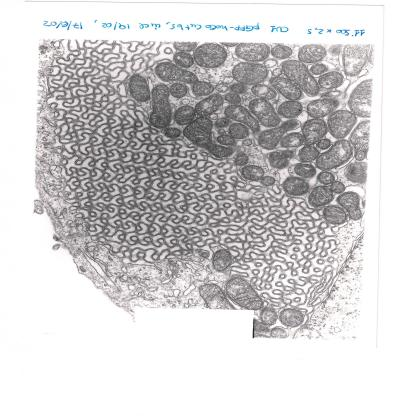mitochondria: (182, 116, 233, 160), (279, 60, 322, 98), (254, 117, 302, 151), (220, 100, 264, 133), (222, 275, 264, 309), (143, 84, 173, 127), (310, 141, 352, 171), (193, 282, 236, 310), (266, 73, 305, 101), (152, 61, 198, 84), (192, 42, 229, 70), (231, 61, 271, 85), (327, 110, 357, 140), (249, 99, 282, 126), (304, 96, 342, 119), (299, 116, 328, 146), (236, 42, 272, 63), (190, 94, 224, 116), (336, 192, 364, 218), (308, 184, 337, 208), (127, 73, 151, 102), (297, 44, 328, 65), (282, 176, 311, 198), (209, 248, 236, 271), (319, 207, 350, 227), (222, 122, 254, 140), (279, 307, 307, 327), (171, 105, 196, 126), (318, 73, 348, 90), (343, 161, 367, 182), (279, 132, 307, 149), (266, 151, 291, 169), (276, 101, 304, 117), (252, 83, 278, 100), (166, 83, 192, 99), (271, 42, 294, 60), (291, 162, 316, 178), (189, 82, 217, 96), (240, 166, 266, 181), (172, 51, 196, 67), (212, 134, 240, 146), (258, 307, 276, 325), (232, 152, 252, 168), (222, 90, 244, 104), (298, 147, 318, 162), (308, 62, 330, 75), (212, 115, 232, 129), (160, 128, 182, 140), (317, 170, 335, 184), (260, 175, 280, 187), (269, 326, 289, 338), (330, 182, 346, 194), (316, 139, 330, 148)
